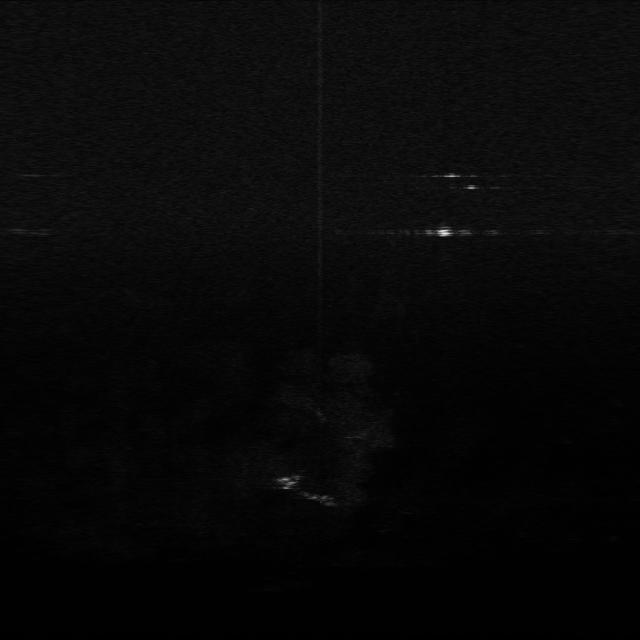rov: (430, 225, 456, 241)
